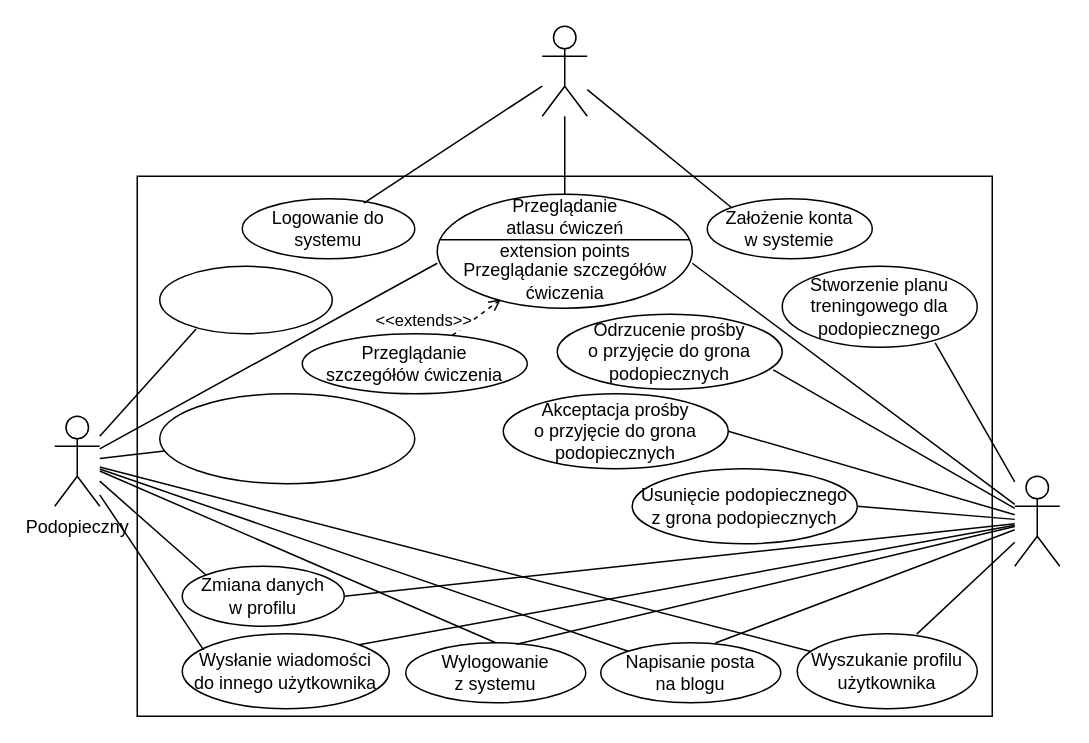
Image size: 1089x743. Some labels were removed from this diagram. Here are the shapes that lost their labels. From the top down, the centre of each, then its label:
point (564, 70): Użytkownik niezalogowany
point (245, 299): Wystawienie opinii trenerowi
point (286, 438): Wysłanie prośby do trenera o przyjęcie do grona podopiecznych
point (1036, 520): Trener
